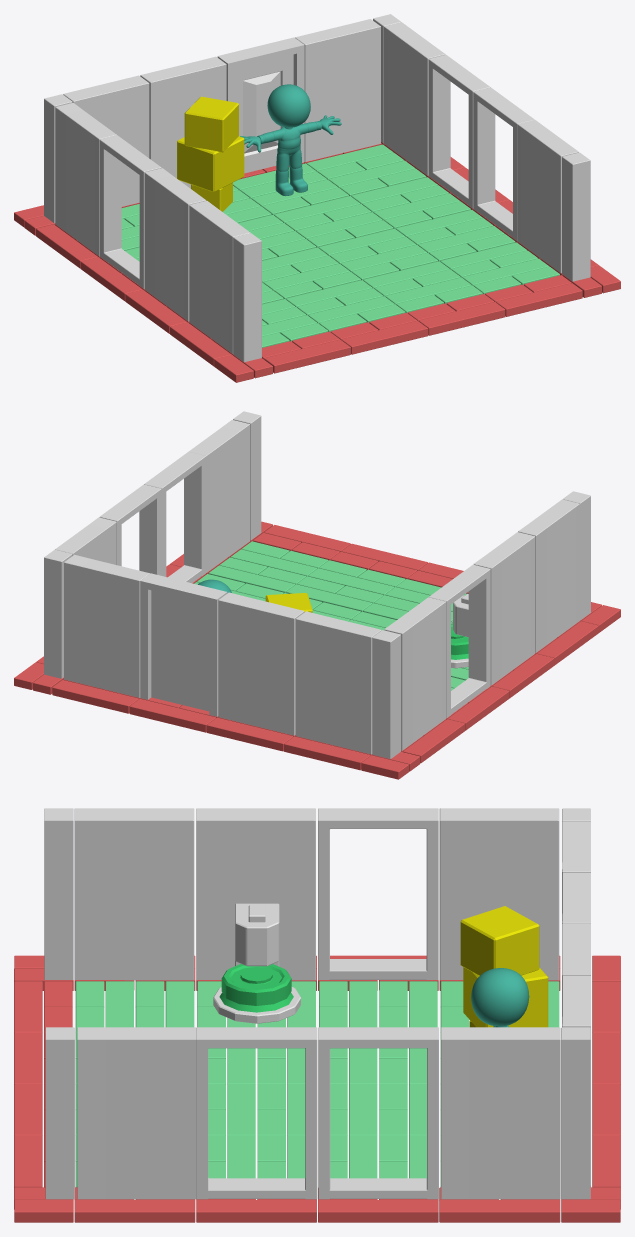
File: CT_Level_1.glb
3 renders of one model, top to bottom at view 1: azimuth 30°, elevation 25°; view 2: azimuth 150°, elevation 25°; view 3: azimuth 270°, elevation 25°, orthographic. The views are drawn at different scales.
Parts seen in each view (by area): view 1: obj_EdgeWall.002-col, obj_EdgeWall.006-col, obj_NotSmartDoor-col, obj_EdgeWall.008-col, obj_EdgeWall.001-col, obj_EdgeWall.005-col, obj_EdgeWall.007-col, obj_Smart_Boxes.001, obj_EdgeWall.003-col, obj_EdgeWall.009-col, obj_EdgeWindow.001-col, obj_EdgeWindow.002-col (+31 smaller); view 2: obj_EdgeWall.003-col, obj_EdgeWall.004-col, obj_NotSmartDoor-col, obj_EdgeWall.002-col, obj_EdgeWall.006-col, obj_EdgeWall.005-col, obj_EdgeWall.007-col, obj_EdgeWall.008-col, obj_EdgeWall.009-col, obj_EdgeWindow.002-col, obj_Wallcorner.001-col.003, obj_Floor.015-col (+25 smaller); view 3: obj_EdgeWall.007-col, obj_EdgeWall.001-col, obj_EdgeWall.008-col, obj_EdgeWall.006-col, obj_EdgeWall.005-col, obj_EdgeWindow.002-col, obj_EdgeWindow.001-col, obj_EdgeWall.009-col, obj_Smart_Boxes.001, obj_Floor.021-col, obj_Floor.019-col, obj_Wallcorner.004-col.007 (+34 smaller).
Part boxes in pixels (left/top/right/bottom): obj_EdgeWall.002-col: left=295, top=19, right=380, bottom=161; obj_EdgeWall.006-col: left=144, top=168, right=206, bottom=321; obj_NotSmartDoor-col: left=217, top=37, right=304, bottom=173; obj_EdgeWall.008-col: left=517, top=120, right=578, bottom=272; obj_EdgeWall.001-col: left=384, top=22, right=445, bottom=175; obj_EdgeWall.005-col: left=55, top=102, right=116, bottom=256; obj_EdgeWall.007-col: left=189, top=201, right=250, bottom=353; obj_Smart_Boxes.001: left=177, top=96, right=244, bottom=211; obj_EdgeWall.003-col: left=140, top=56, right=226, bottom=188; obj_EdgeWall.009-col: left=99, top=135, right=161, bottom=288; obj_EdgeWindow.001-col: left=428, top=55, right=490, bottom=208; obj_EdgeWindow.002-col: left=473, top=87, right=534, bottom=240; obj_EdgeWall.003-col: left=218, top=592, right=304, bottom=735; obj_EdgeWall.004-col: left=295, top=611, right=381, bottom=754; obj_NotSmartDoor-col: left=140, top=573, right=227, bottom=716; obj_EdgeWall.002-col: left=64, top=554, right=149, bottom=697; obj_EdgeWall.006-col: left=473, top=532, right=535, bottom=685; obj_EdgeWall.005-col: left=384, top=597, right=445, bottom=750; obj_EdgeWall.007-col: left=518, top=499, right=579, bottom=652; obj_EdgeWall.008-col: left=188, top=420, right=249, bottom=572; obj_EdgeWall.009-col: left=429, top=564, right=490, bottom=718; obj_EdgeWindow.002-col: left=144, top=452, right=205, bottom=583; obj_Wallcorner.001-col.003: left=372, top=630, right=400, bottom=758; obj_Floor.015-col: left=208, top=541, right=328, bottom=592; obj_EdgeWall.007-col: left=74, top=808, right=194, bottom=980; obj_EdgeWall.001-col: left=441, top=1027, right=560, bottom=1199; obj_EdgeWall.008-col: left=77, top=1027, right=196, bottom=1199; obj_EdgeWall.006-col: left=196, top=808, right=315, bottom=980; obj_EdgeWall.005-col: left=439, top=808, right=559, bottom=980; obj_EdgeWindow.002-col: left=196, top=1027, right=317, bottom=1199; obj_EdgeWindow.001-col: left=318, top=1027, right=438, bottom=1199; obj_EdgeWall.009-col: left=318, top=808, right=438, bottom=979; obj_Smart_Boxes.001: left=460, top=906, right=548, bottom=1027; obj_Floor.021-col: left=75, top=981, right=194, bottom=1032; obj_Floor.019-col: left=319, top=981, right=437, bottom=1027; obj_Wallcorner.004-col.007: left=45, top=1027, right=74, bottom=1199.
Size of the model in its own units: 4.99 by 1.55 by 4.99.
